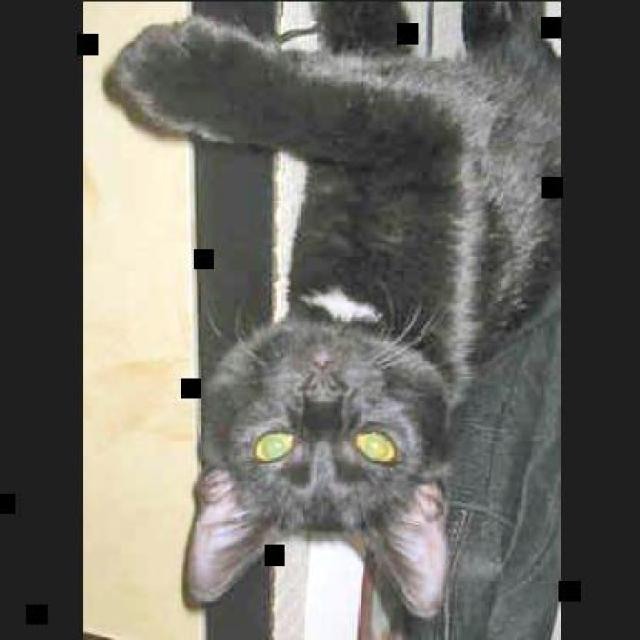unauthorized: (100, 0, 560, 628), (180, 284, 455, 622)
